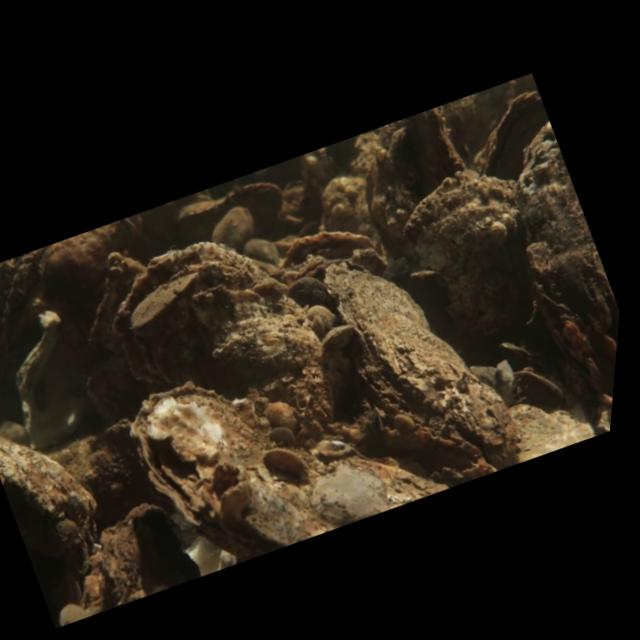Oyster-Closed: (129, 383, 455, 561), (113, 240, 336, 442), (323, 257, 528, 463), (361, 106, 471, 255), (79, 499, 206, 606), (13, 307, 80, 448), (173, 176, 293, 241), (0, 250, 48, 409), (472, 87, 548, 175), (514, 365, 567, 411), (211, 207, 256, 251)
Oyster-Indeterminate: (399, 164, 538, 340), (0, 432, 108, 577), (84, 245, 149, 424), (277, 224, 393, 277), (245, 239, 280, 263)
